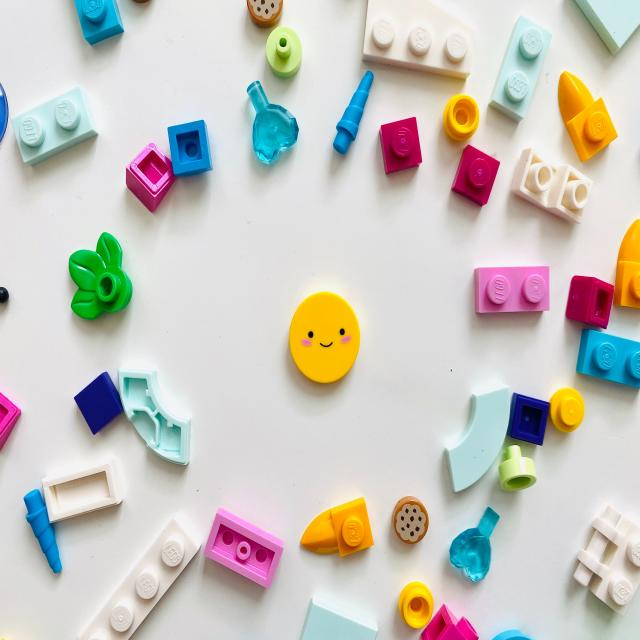Plastic: (321, 49, 503, 222), (434, 385, 598, 500), (70, 363, 210, 472), (118, 110, 237, 223), (561, 493, 640, 635), (48, 229, 161, 318), (225, 62, 308, 172), (294, 496, 398, 567), (287, 292, 362, 388), (440, 505, 510, 585), (389, 492, 438, 550)
